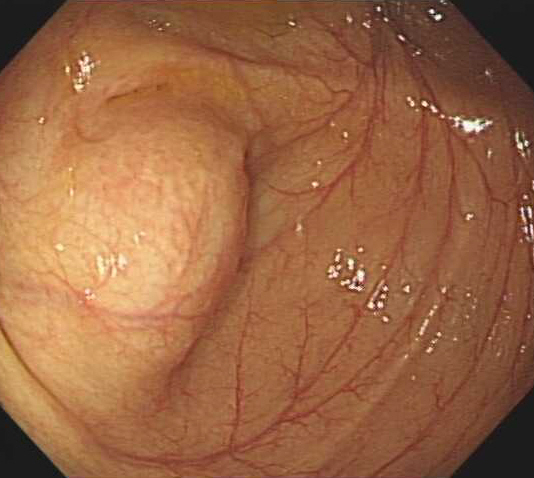adenoma: (52, 112, 251, 367)
